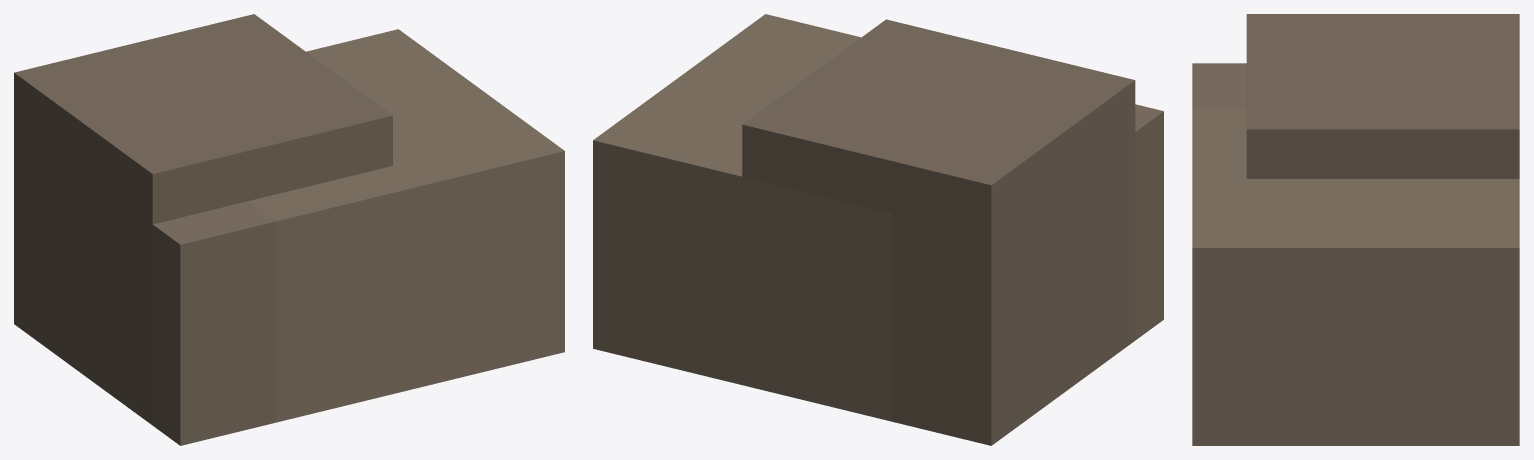
The model's file is turba_02.glb.
3 renders of one model, left to right at view 1: azimuth 30°, elevation 25°; view 2: azimuth 150°, elevation 25°; view 3: azimuth 270°, elevation 25°, orthographic. The views are drawn at different scales.
Visible parts, largest first — view 1: turba_02; view 2: turba_02; view 3: turba_02.
Part boxes in pixels (x1=…): turba_02: x1=14, y1=14, x2=564, y2=445; turba_02: x1=593, y1=14, x2=1163, y2=445; turba_02: x1=1192, y1=14, x2=1519, y2=445.
Size of the model in its own units: 0.8 by 0.5 by 0.6.
